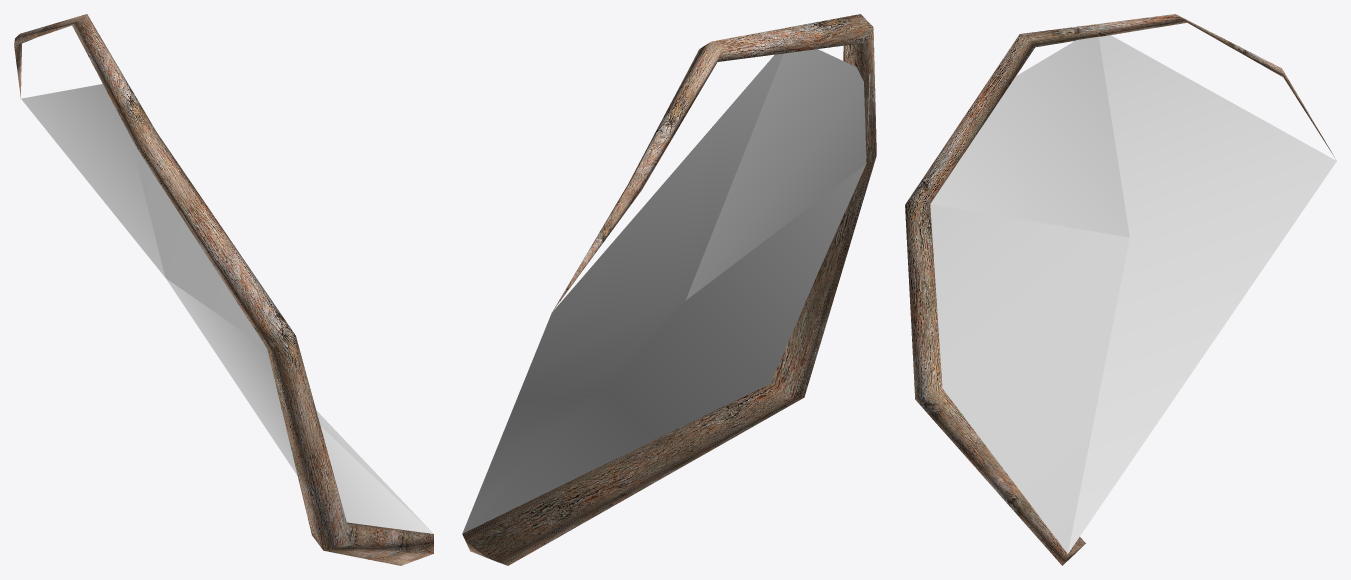
Rendered from poi_lair_web_s02_l0.fbx.
The picture shows the model from 3 angles, left to right: view 1: azimuth 30°, elevation 25°; view 2: azimuth 150°, elevation 25°; view 3: azimuth 270°, elevation 25°; orthographic projection. The views are drawn at different scales.
Parts seen in each view (by area): view 1: mesh_node; view 2: mesh_node; view 3: mesh_node.
Part boxes in pixels (box(x1,y1,x2,y2)): mesh_node: box(14, 14, 433, 565); mesh_node: box(462, 14, 876, 565); mesh_node: box(905, 14, 1336, 565).
Size of the model in its own units: 0.3545 by 0.5879 by 0.5144.
